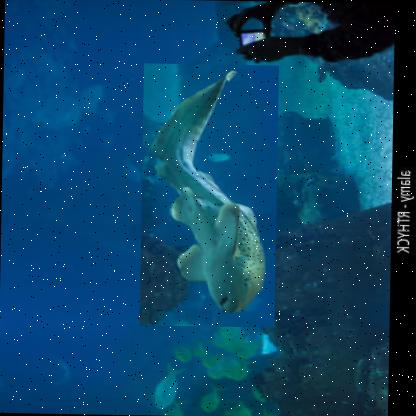zebra_shark: (138, 63, 278, 328)
